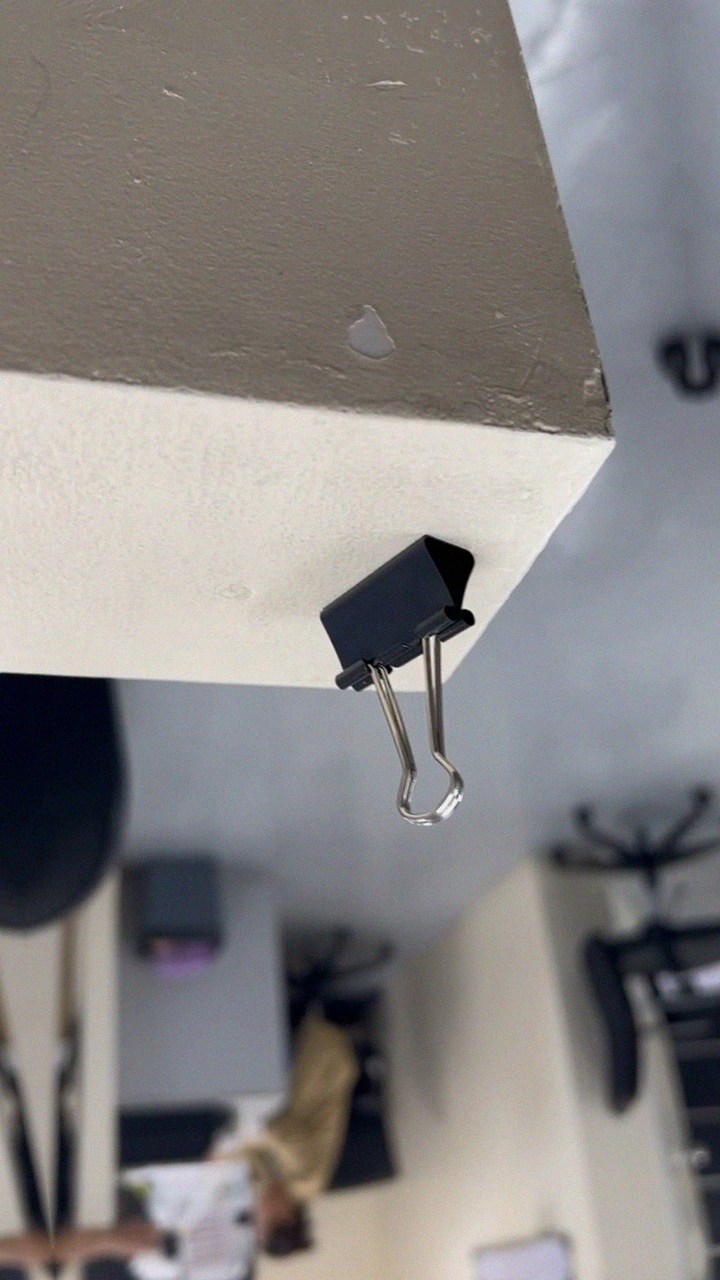kep_giay: (309, 526, 502, 836)
